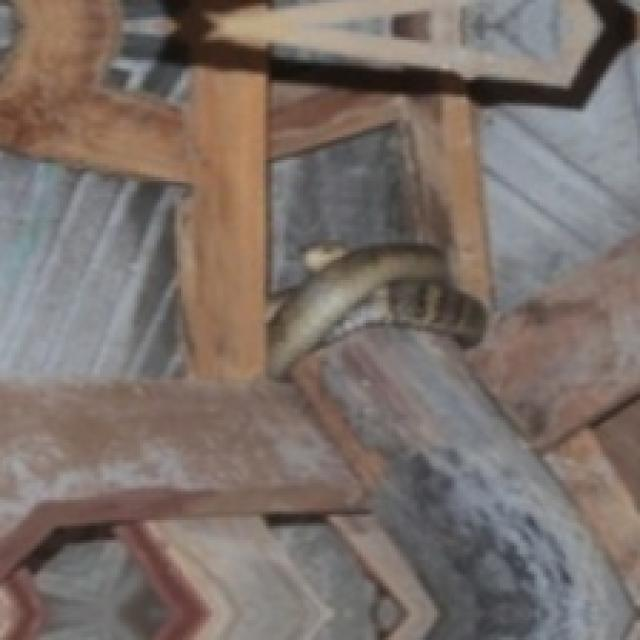king cobra: (269, 243, 483, 374)
